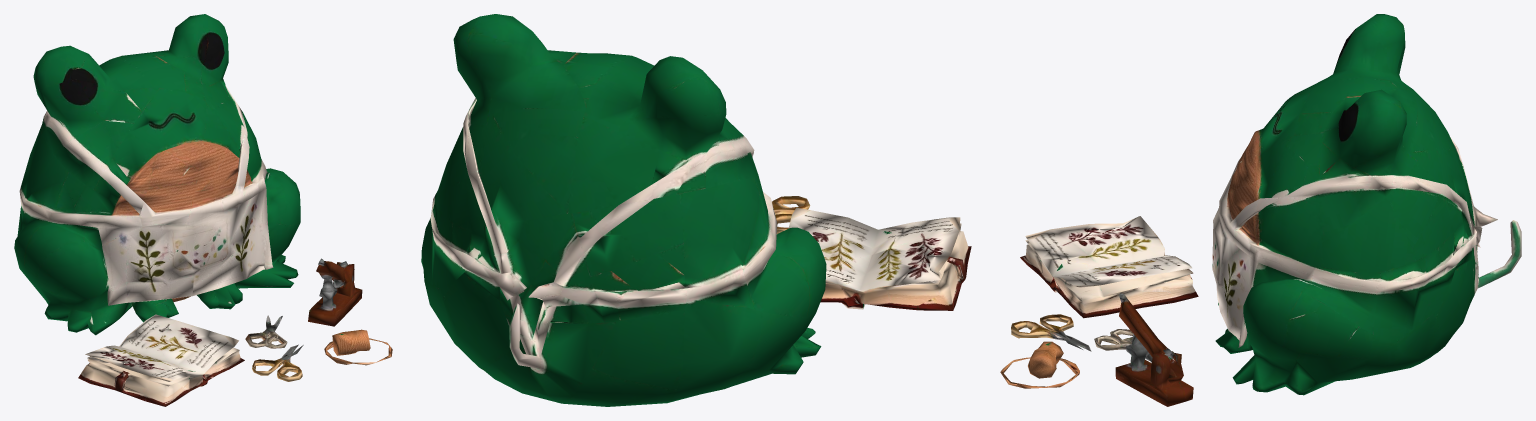
The model's file is botaniste.glb.
The picture shows the model from 3 angles, left to right: view 1: azimuth 30°, elevation 25°; view 2: azimuth 150°, elevation 25°; view 3: azimuth 270°, elevation 25°; orthographic projection. The views are drawn at different scales.
Parts seen in each view (by area): view 1: mesh_node; view 2: mesh_node; view 3: mesh_node.
Part boxes in pixels (left/top/right/bottom): mesh_node: left=14, top=14, right=392, bottom=406; mesh_node: left=421, top=14, right=971, bottom=406; mesh_node: left=1000, top=14, right=1521, bottom=406.
Bounding box in the file's own units: 1.45 × 1.1 × 1.89.
1 material, 1 textured.
